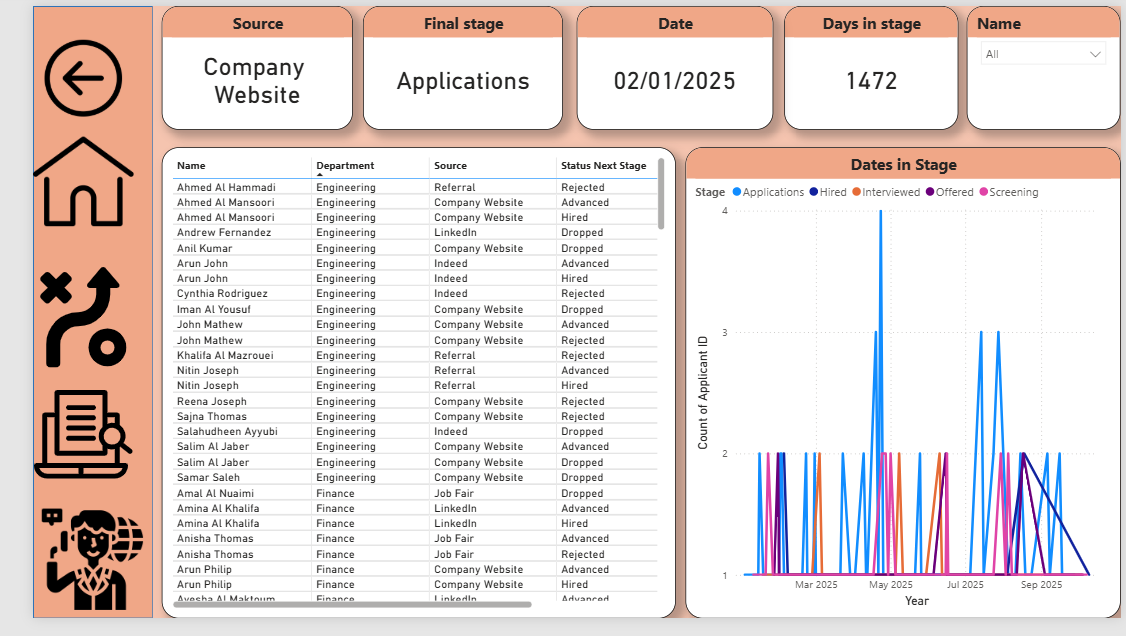

What the dashboard file says about the page in this screenshot:
{"tool":"powerbi","page":{"name":"Candidate Details","canvas":[1280,720],"ordinal":1},"visuals":[{"type":"tableEx","fields":{"Values":["recruitment_funnel_data.Name","recruitment_funnel_data.Department","recruitment_funnel_data.Source","recruitment_funnel_data.Status Next Stage"]},"box":[151.5,166.2,604.4,554.4],"z":0},{"type":"shape","box":[0,0,141.2,720.6],"z":1},{"type":"card","title":"Days in stage","fields":{"Values":["Sum(recruitment_funnel_data.Days In Stage)"]},"box":[883.8,0,204.4,145.6],"z":2},{"type":"card","title":"Source","fields":{"Values":["Min(recruitment_funnel_data.Source)"]},"box":[151.5,0,225,145.6],"z":3},{"type":"card","title":"Final stage","fields":{"Values":["Min(recruitment_funnel_data.Stage)"]},"box":[388.2,0,235.3,145.6],"z":4},{"type":"card","title":"Date","fields":{"Values":["Min(recruitment_funnel_data.Date Of  Application)"]},"box":[639.7,0,230.9,145.6],"z":5},{"type":"slicer","title":"Name","fields":{"Values":["recruitment_funnel_data.Name"]},"box":[1098.5,0,180.9,145.6],"z":6},{"type":"lineChart","title":"Dates in Stage","fields":{"Y":["CountNonNull(recruitment_funnel_data.Applicant ID)"],"Category":["recruitment_funnel_data.Date Of  Application.Variation.Date Hierarchy.Year","recruitment_funnel_data.Date Of  Application.Variation.Date Hierarchy.Quarter","recruitment_funnel_data.Date Of  Application.Variation.Date Hierarchy.Month","recruitment_funnel_data.Date Of  Application.Variation.Date Hierarchy.Day"],"Series":["recruitment_funnel_data.Stage"]},"box":[767.6,166.2,511.8,554.4],"z":7},{"type":"image","box":[0,427.7,118.5,152.3],"z":8},{"type":"image","box":[0,303.1,118.5,126.2],"z":9},{"type":"image","box":[0,40,118.5,90.8],"z":10},{"type":"image","box":[0,146.2,118.5,121.5],"z":12001},{"type":"image","box":[10.3,580.9,119.1,139.7],"z":12002}]}

Visuals, with their boxes in screenshot pixels (x1, y1, x2, y2), scaled from the page's 1280x720 canvas onto the 1126x636 screenshot:
tableEx - recruitment_funnel_data.Name x recruitment_funnel_data.Department: (x1=133, y1=147, x2=665, y2=635)
shape: (x1=0, y1=0, x2=124, y2=635)
"Days in stage" card: (x1=777, y1=0, x2=957, y2=129)
"Source" card: (x1=133, y1=0, x2=331, y2=129)
"Final stage" card: (x1=341, y1=0, x2=548, y2=129)
"Date" card: (x1=563, y1=0, x2=766, y2=129)
"Name" slicer: (x1=966, y1=0, x2=1125, y2=129)
"Dates in Stage" lineChart: (x1=675, y1=147, x2=1125, y2=635)
image: (x1=0, y1=378, x2=104, y2=512)
image: (x1=0, y1=268, x2=104, y2=379)
image: (x1=0, y1=35, x2=104, y2=116)
image: (x1=0, y1=129, x2=104, y2=236)
image: (x1=9, y1=513, x2=114, y2=635)
